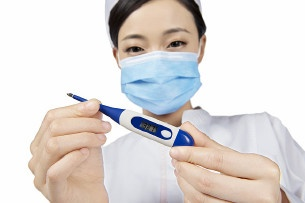Mask: (114, 25, 203, 114)
